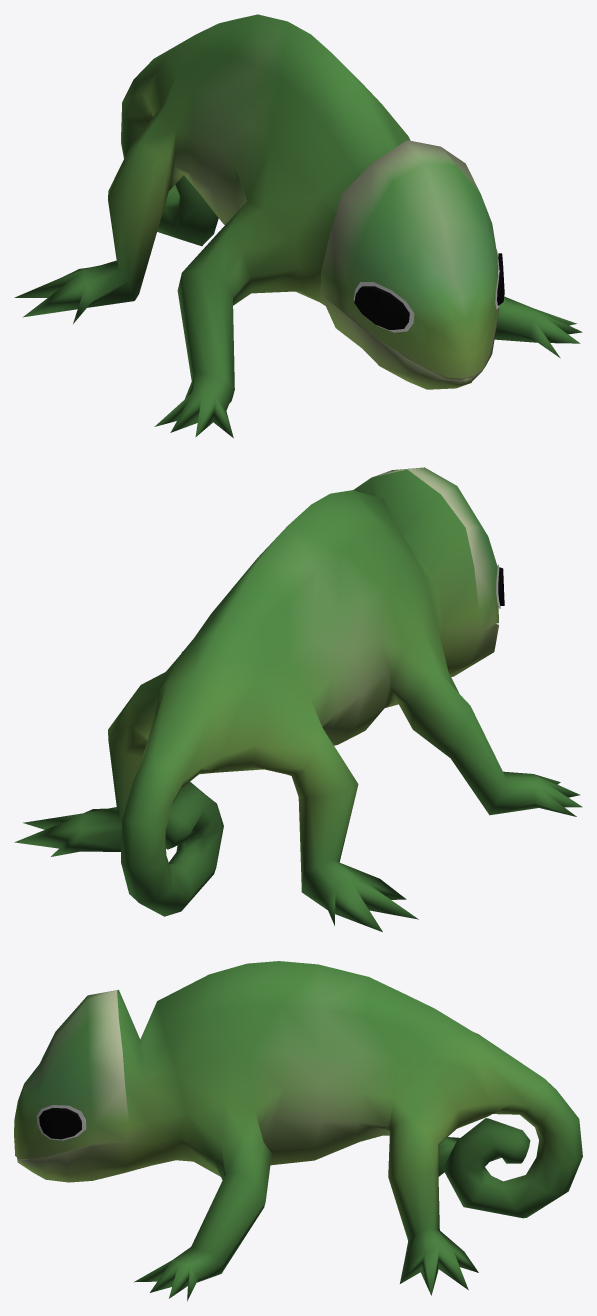
3 views of the same model, one above another, from view 1: azimuth 30°, elevation 25°; view 2: azimuth 150°, elevation 25°; view 3: azimuth 270°, elevation 25° (orthographic). The views are drawn at different scales.
Parts seen in each view (by area): view 1: base.119; view 2: base.119; view 3: base.119.
Part boxes in pixels (box(x1,y1,x2,y2)): base.119: box(14, 14, 582, 438); base.119: box(14, 467, 582, 932); base.119: box(14, 961, 582, 1301).
Bounding box in the file's own units: 0.3623 × 0.2493 × 0.5.
